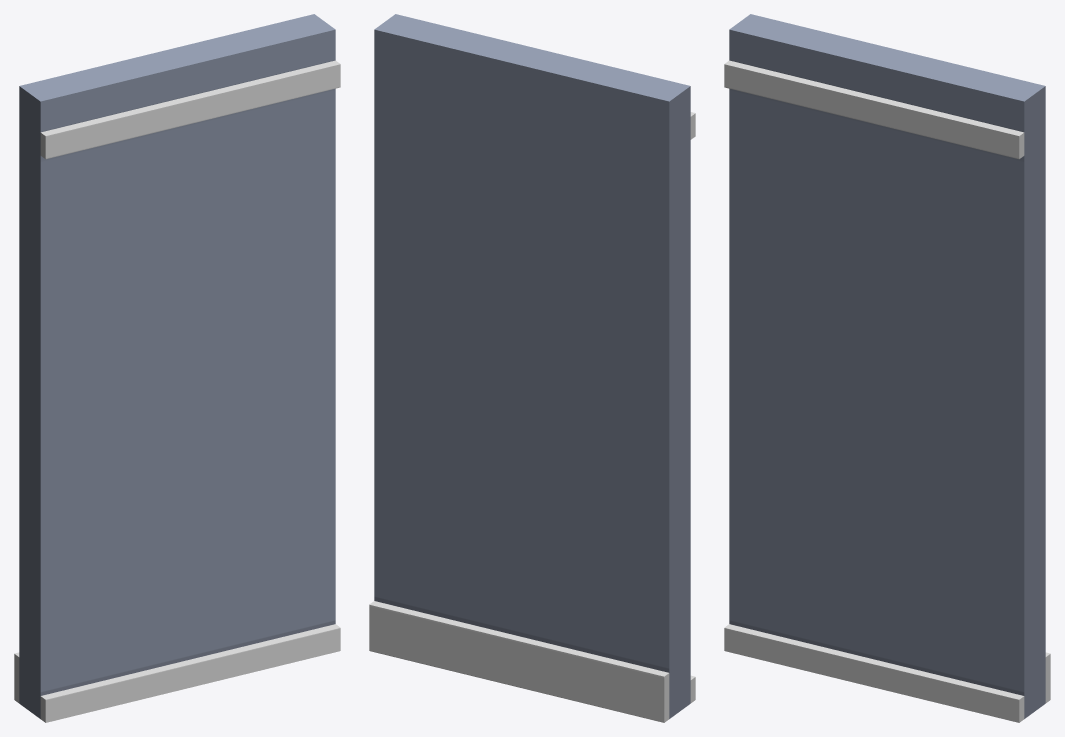
The model's file is office_pack_demoRoom_wall_small.fbx.
3 renders of one model, left to right at view 1: azimuth 30°, elevation 25°; view 2: azimuth 150°, elevation 25°; view 3: azimuth 330°, elevation 25°, orthographic.
Visible parts, largest first — view 1: office_pack_demoRoom_wall_small; view 2: office_pack_demoRoom_wall_small; view 3: office_pack_demoRoom_wall_small.
Part boxes in pixels (box(x1,y1,x2,y2)): office_pack_demoRoom_wall_small: box(14, 14, 340, 722); office_pack_demoRoom_wall_small: box(369, 14, 695, 722); office_pack_demoRoom_wall_small: box(724, 14, 1050, 722).
Size of the model in its own units: 100 by 200 by 18.5.
